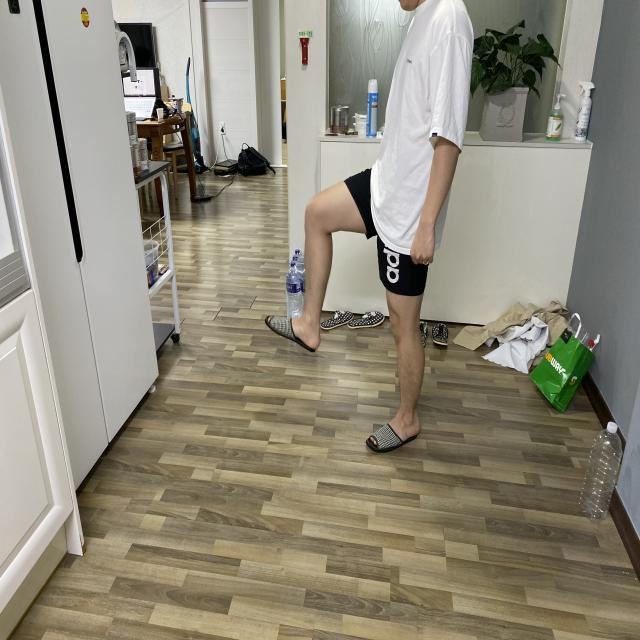no-boots: (266, 292, 326, 373), (360, 409, 432, 465)
